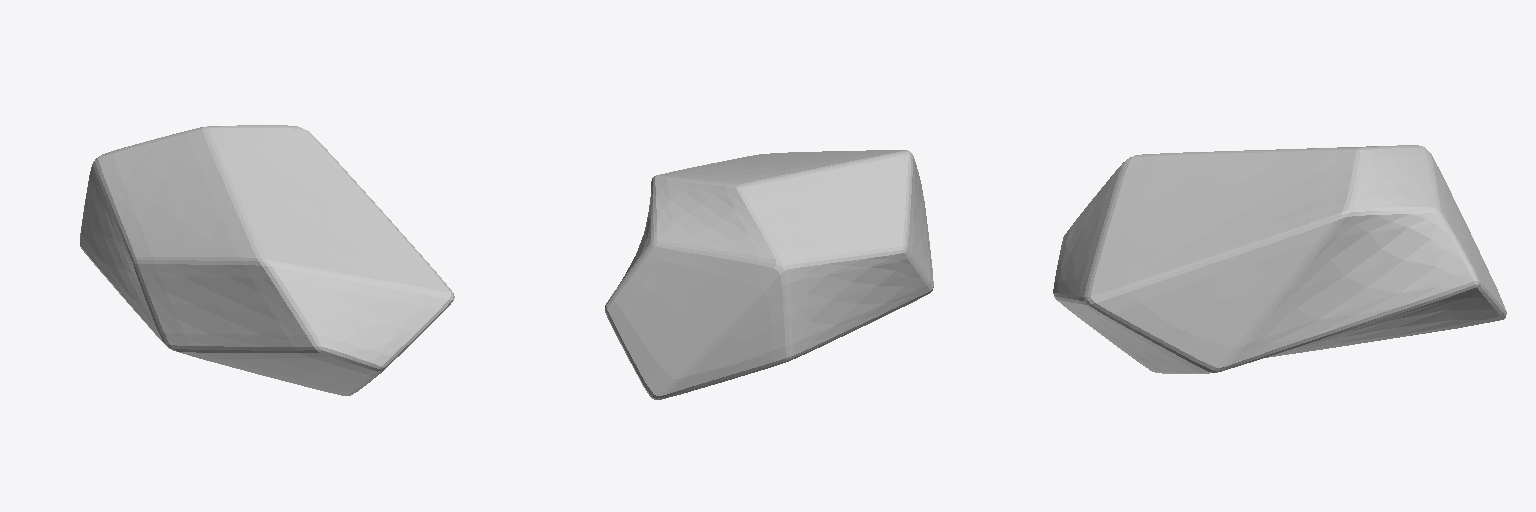
The model's file is rock-tree2-02.obj.
The picture shows the model from 3 angles: view 1: azimuth 30°, elevation 25°; view 2: azimuth 150°, elevation 25°; view 3: azimuth 270°, elevation 25°; orthographic projection.
Parts seen in each view (by area): view 1: rock_tree2_02 Rocks; view 2: rock_tree2_02 Rocks; view 3: rock_tree2_02 Rocks.
Boxes of the visible parts, <box> form: rock_tree2_02 Rocks: <box>80,125,454,395</box>; rock_tree2_02 Rocks: <box>605,150,933,399</box>; rock_tree2_02 Rocks: <box>1053,145,1506,373</box>.
Bounding box in the file's own units: 0.417 × 0.3113 × 0.6301.